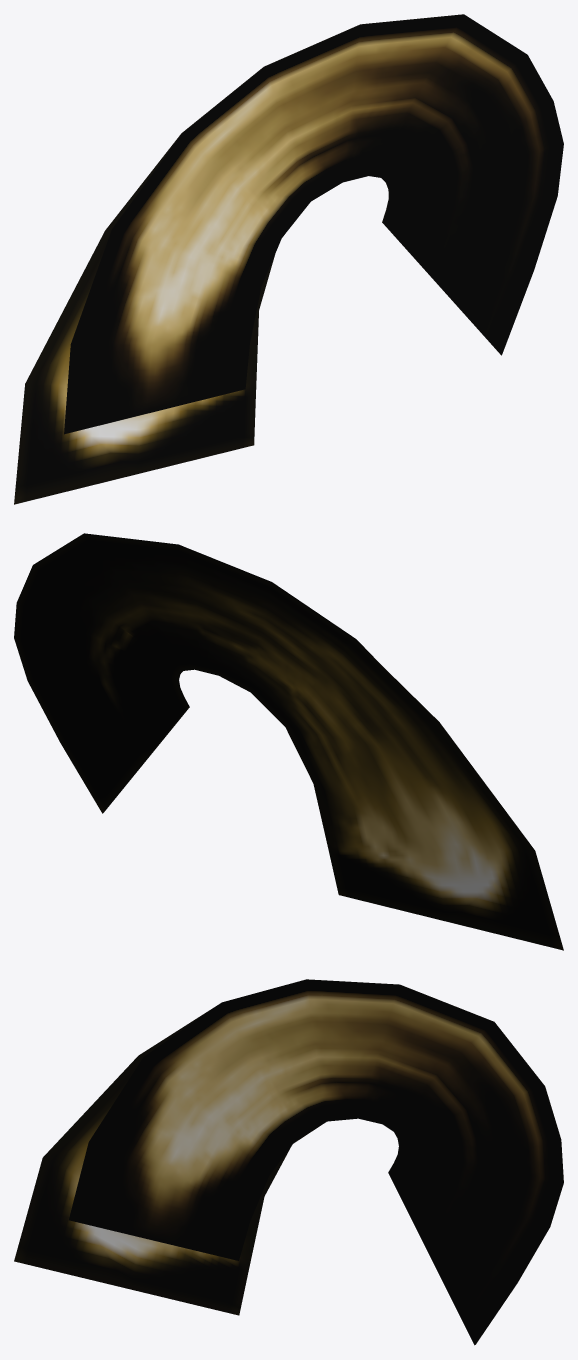
File: effect_yuanshao_self_4.FBX
The picture shows the model from 3 angles, top to bottom: view 1: azimuth 30°, elevation 25°; view 2: azimuth 150°, elevation 25°; view 3: azimuth 330°, elevation 25°; orthographic projection. The views are drawn at different scales.
Visible parts, largest first — view 1: effect_yunshao_self_4_2, effect_yunshao_self_4_1; view 2: effect_yunshao_self_4_1, effect_yunshao_self_4_2; view 3: effect_yunshao_self_4_2, effect_yunshao_self_4_1.
Boxes of the visible parts, x1,y1,x2,y2 form: effect_yunshao_self_4_2: [64, 14, 563, 434]; effect_yunshao_self_4_1: [14, 14, 500, 504]; effect_yunshao_self_4_1: [14, 534, 563, 950]; effect_yunshao_self_4_2: [33, 533, 375, 804]; effect_yunshao_self_4_2: [69, 979, 563, 1345]; effect_yunshao_self_4_1: [14, 979, 563, 1344].
Size of the model in its own units: 366 by 225 by 36.49.
2 materials, 2 textured.
